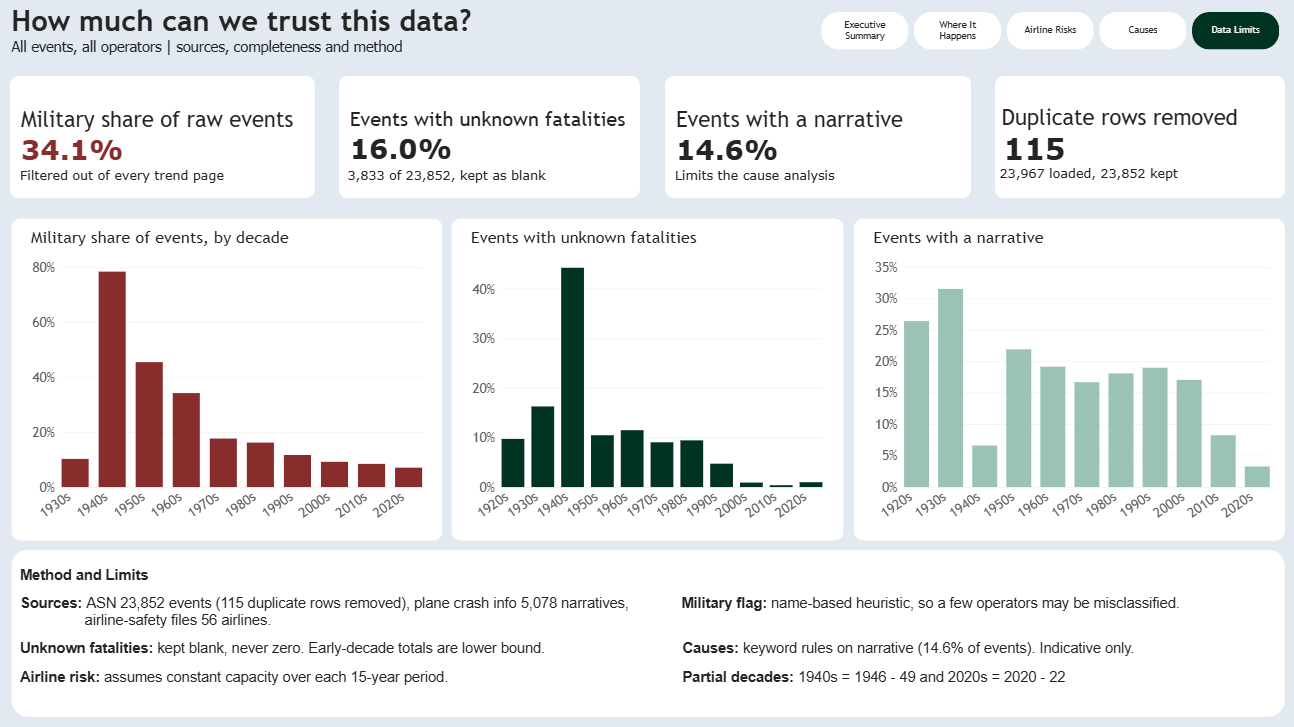

What the dashboard file says about the page in this screenshot:
{"tool":"powerbi","page":{"name":"Data Limits","canvas":[1920,1080],"ordinal":4},"visuals":[{"type":"shape","box":[29.3,122.9,447.6,179.8],"z":0},{"type":"shape","box":[512.4,122.9,442.1,179.8],"z":1000},{"type":"shape","box":[989.9,122.9,449.4,179.8],"z":2000},{"type":"shape","box":[1474.7,122.9,425.5,179.8],"z":3000},{"type":"shape","box":[31.2,332,632.8,473.2],"z":4000},{"type":"shape","box":[677.8,332,576,473.2],"z":5000},{"type":"shape","box":[1267.5,332,632.8,473.2],"z":6000},{"type":"shape","box":[31.2,818.1,1869.1,245.8],"z":7000},{"type":"pageNavigator","box":[1219.8,29.3,675,55],"z":8000},{"type":"textbox","box":[31.2,16.5,906.1,106.4],"z":9000},{"type":"cardVisual","fields":{"Data":["Dax Measures.Military Share"]},"box":[29.3,122.9,432.9,179.8],"z":10000},{"type":"cardVisual","fields":{"Data":["Dax Measures.Unknown Fatalities %"]},"box":[511.8,122.9,442.1,179.8],"z":11000},{"type":"cardVisual","fields":{"Data":["Dax Measures.Narrative Coverage %"]},"box":[990.5,122.9,436.6,179.8],"z":12000},{"type":"textbox","box":[1474.7,165.1,420,137.6],"z":13000},{"type":"clusteredColumnChart","title":"Military share of events, by decade","fields":{"Category":["dw accidents.Decade lable"],"Y":["Dax Measures.Military Share"]},"box":[44,332,607.1,475.1],"z":14000},{"type":"clusteredColumnChart","title":"Events with unknown fatalities","fields":{"Category":["dw accidents.Decade lable"],"Y":["Dax Measures.Unknown Fatalities %"]},"box":[689.7,332,548.4,475.1],"z":15000},{"type":"clusteredColumnChart","title":"Events with a narrative","fields":{"Category":["dw accidents.Decade lable"],"Y":["Dax Measures.Narrative Coverage %"]},"box":[1280.3,332,614.5,475.1],"z":16000},{"type":"textbox","box":[1005.2,256.8,421.9,33],"z":17000},{"type":"textbox","box":[524.6,256.8,412.7,33],"z":18000},{"type":"textbox","box":[44,256.8,418.2,33],"z":19000},{"type":"textbox","box":[44,843.8,1850.8,220.1],"z":20000}]}

Visuals, with their boxes in screenshot pixels (x1, y1, x2, y2), scaled from the page's 1920x1080 canvas onto the 1294x727 screenshot:
shape: <box>20,83,321,204</box>
shape: <box>345,83,643,204</box>
shape: <box>667,83,970,204</box>
shape: <box>994,83,1281,204</box>
shape: <box>21,223,448,542</box>
shape: <box>457,223,845,542</box>
shape: <box>854,223,1281,542</box>
shape: <box>21,551,1281,716</box>
pageNavigator: <box>822,20,1277,57</box>
textbox: <box>21,11,632,83</box>
cardVisual - Dax Measures.Military Share: <box>20,83,312,204</box>
cardVisual - Dax Measures.Unknown Fatalities %: <box>345,83,643,204</box>
cardVisual - Dax Measures.Narrative Coverage %: <box>668,83,962,204</box>
textbox: <box>994,111,1277,204</box>
"Military share of events, by decade" clusteredColumnChart: <box>30,223,439,543</box>
"Events with unknown fatalities" clusteredColumnChart: <box>465,223,834,543</box>
"Events with a narrative" clusteredColumnChart: <box>863,223,1277,543</box>
textbox: <box>677,173,962,195</box>
textbox: <box>354,173,632,195</box>
textbox: <box>30,173,312,195</box>
textbox: <box>30,568,1277,716</box>
